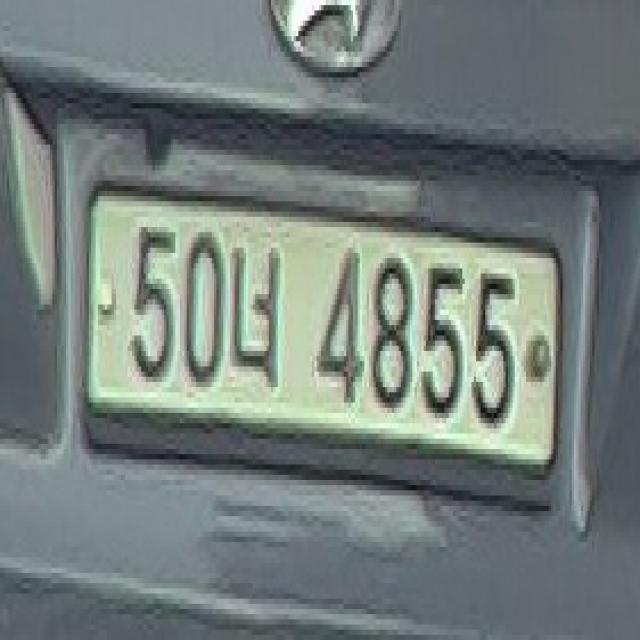0: (183, 218, 222, 395)
4: (315, 250, 368, 410)
5: (471, 268, 524, 442), (128, 224, 180, 384), (421, 250, 466, 425)
8: (369, 251, 417, 417)
license_plate: (79, 188, 566, 482)
neo: (228, 229, 288, 400)
